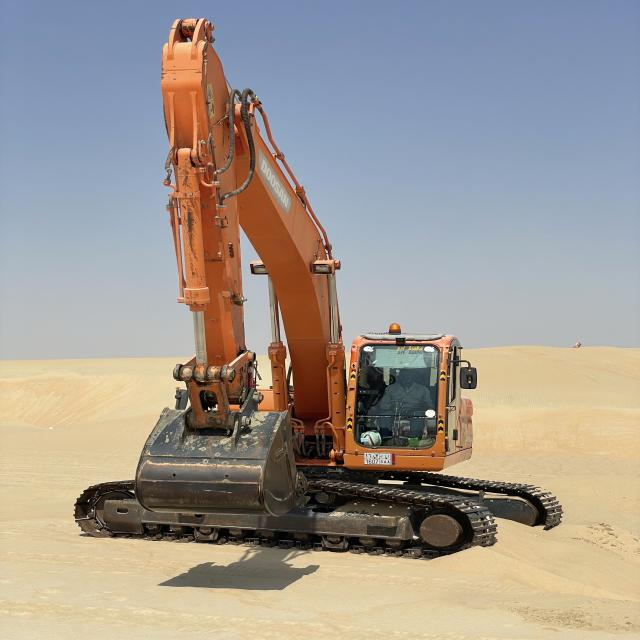excavator: (71, 16, 561, 544)
